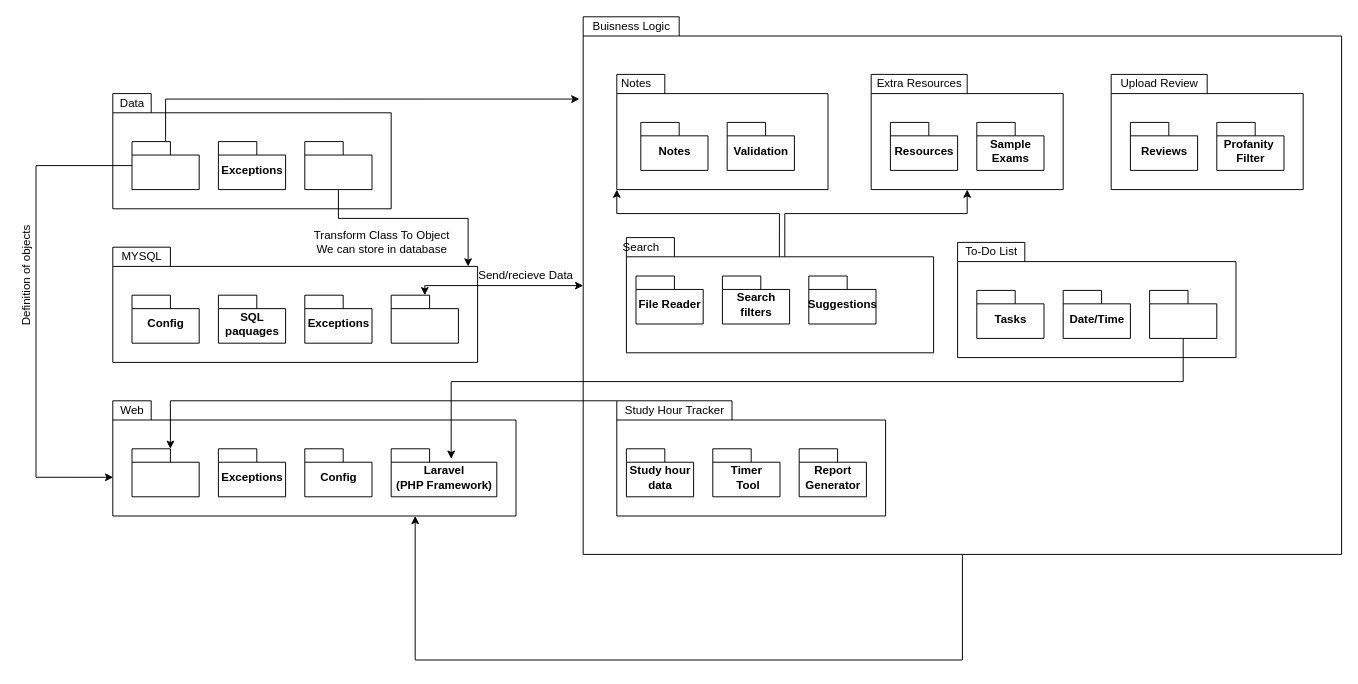
Image size: 1358x684. Some labels were removed from this diagram. The shapes that lost their labels are listed below. From the top down, each one's centre as x and y in pixels, then its label:
(x=165, y=165): Types
(x=338, y=165): DTO
(x=424, y=318): Data Source
(x=1183, y=313): Notifier
(x=165, y=472): Pages
